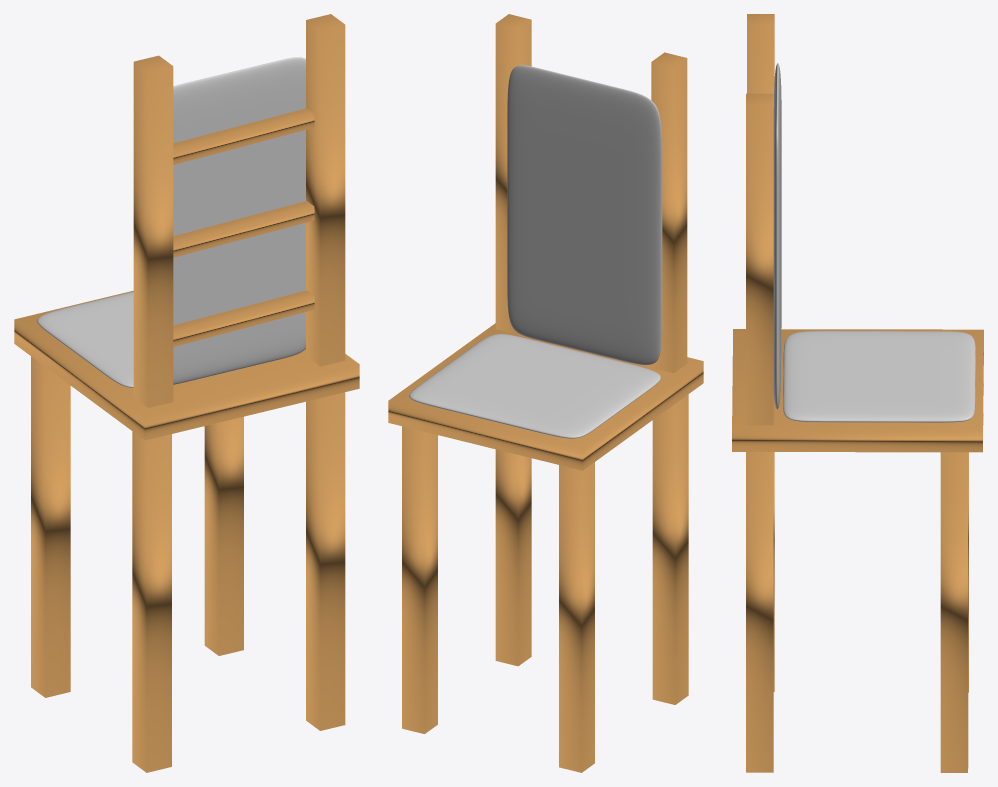
Rendered from chaise.fbx.
3 views of the same model, side by side, from view 1: azimuth 30°, elevation 25°; view 2: azimuth 150°, elevation 25°; view 3: azimuth 270°, elevation 25° (orthographic). The views are drawn at different scales.
Parts seen in each view (by area): view 1: chaise1, coussin1, coussin2; view 2: chaise1, coussin1, coussin2; view 3: chaise1, coussin2, coussin1.
Boxes of the visible parts, x1,y1,x2,y2 form: chaise1: (14,14,359,772); coussin1: (173,57,305,384); coussin2: (37,291,133,387); chaise1: (388,14,703,772); coussin1: (507,65,662,365); coussin2: (409,334,660,438); chaise1: (732,14,983,772); coussin2: (783,331,975,422); coussin1: (773,63,781,409).
Bounding box in the file's own units: 1.8 × 5.6 × 1.92.
